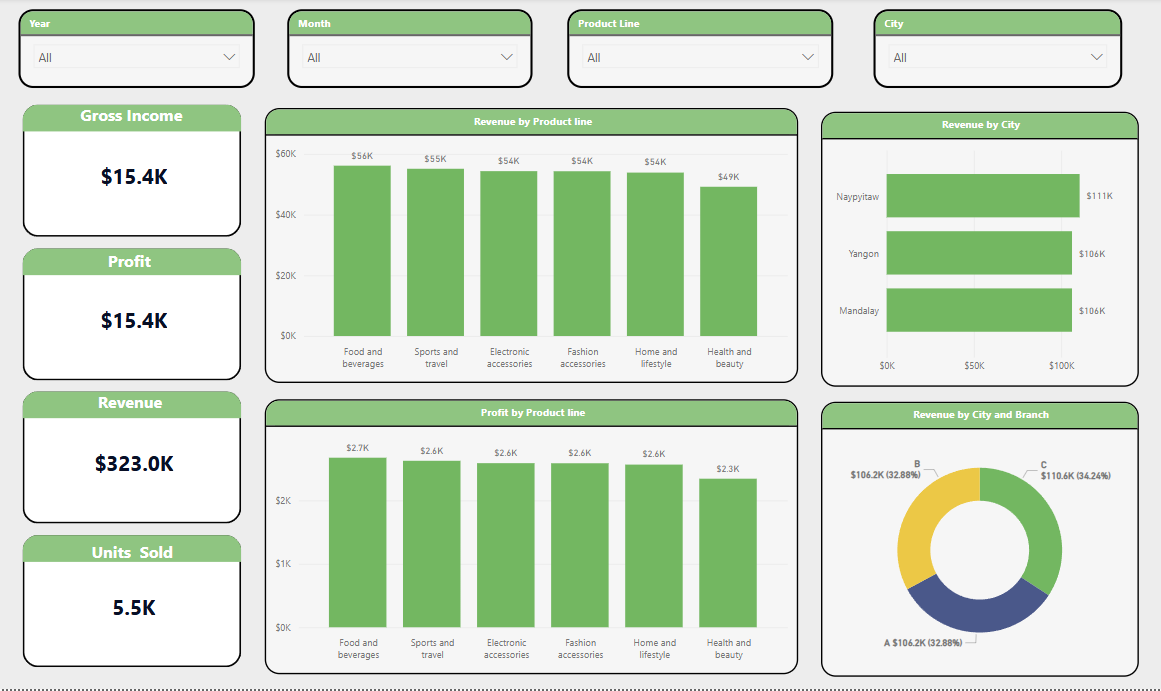

What the dashboard file says about the page in this screenshot:
{"tool":"powerbi","page":{"name":"Page 1","canvas":[1350,800],"ordinal":0},"visuals":[{"type":"cardVisual","fields":{"Data":["supermarket_sales - Sheet1.Gross_Income","supermarket_sales - Sheet1.Profit","supermarket_sales - Sheet1.Revenue","supermarket_sales - Sheet1.Units Sold"]},"box":[26.1,118.7,263.4,662.8],"z":0},{"type":"clusteredColumnChart","fields":{"Category":["supermarket_sales - Sheet1.Product line"],"Y":["supermarket_sales - Sheet1.Revenue"]},"box":[311.2,127.4,618,318.4],"z":1000},{"type":"barChart","fields":{"Category":["supermarket_sales - Sheet1.City"],"Y":["supermarket_sales - Sheet1.Revenue"]},"box":[955.2,131.7,367.6,318.4],"z":2000},{"type":"donutChart","fields":{"Category":["supermarket_sales - Sheet1.City"],"Y":["supermarket_sales - Sheet1.Revenue"],"Series":["supermarket_sales - Sheet1.Branch"]},"box":[955.2,467.5,367.6,318.4],"z":3000},{"type":"columnChart","fields":{"Category":["supermarket_sales - Sheet1.Product line"],"Y":["supermarket_sales - Sheet1.Profit"]},"box":[311.2,464.6,618,318.4],"z":4000},{"type":"textbox","box":[92.6,117.2,141.8,39.1],"z":5000},{"type":"textbox","box":[124.5,286.6,72.4,39.1],"z":6000},{"type":"textbox","box":[112.9,450.1,99.9,34.7],"z":7000},{"type":"textbox","box":[86.8,623.8,141.8,39.1],"z":8000},{"type":"slicer","title":"Year","fields":{"Values":["supermarket_sales - Sheet1.Date.Variation.Date Hierarchy.Year"]},"box":[26.1,13,273.5,91.2],"z":9000},{"type":"slicer","title":"Month","fields":{"Values":["supermarket_sales - Sheet1.Date.Variation.Date Hierarchy.Month"]},"box":[337.2,13,283.7,91.2],"z":10000},{"type":"slicer","title":"Product Line","fields":{"Values":["supermarket_sales - Sheet1.Product line"]},"box":[661.4,13,308.3,91.2],"z":11000},{"type":"slicer","title":"City","fields":{"Values":["supermarket_sales - Sheet1.City"]},"box":[1016,13,288,91.2],"z":12000}]}

Visuals, with their boxes in screenshot pixels (x1, y1, x2, y2), scaled from the page's 1350x800 canvas onto the 1161x691 screenshot:
cardVisual - supermarket_sales - Sheet1.Gross_Income x supermarket_sales - Sheet1.Profit: crop(22, 103, 249, 675)
clusteredColumnChart - supermarket_sales - Sheet1.Product line x supermarket_sales - Sheet1.Revenue: crop(268, 110, 799, 385)
barChart - supermarket_sales - Sheet1.City x supermarket_sales - Sheet1.Revenue: crop(821, 114, 1138, 389)
donutChart - supermarket_sales - Sheet1.City x supermarket_sales - Sheet1.Revenue: crop(821, 404, 1138, 679)
columnChart - supermarket_sales - Sheet1.Product line x supermarket_sales - Sheet1.Profit: crop(268, 401, 799, 676)
textbox: crop(80, 101, 202, 135)
textbox: crop(107, 248, 169, 281)
textbox: crop(97, 389, 183, 419)
textbox: crop(75, 539, 197, 573)
"Year" slicer: crop(22, 11, 258, 90)
"Month" slicer: crop(290, 11, 534, 90)
"Product Line" slicer: crop(569, 11, 834, 90)
"City" slicer: crop(874, 11, 1121, 90)
